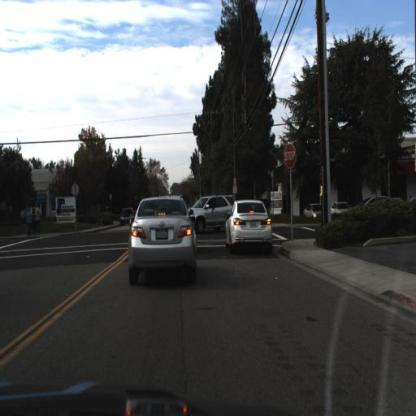car: (127, 195, 199, 291), (226, 199, 276, 259), (189, 195, 240, 233), (191, 195, 235, 229), (302, 198, 327, 226), (360, 196, 397, 211), (118, 205, 139, 229), (121, 207, 135, 227)
pedestrian: (23, 203, 37, 240), (32, 200, 43, 238)
